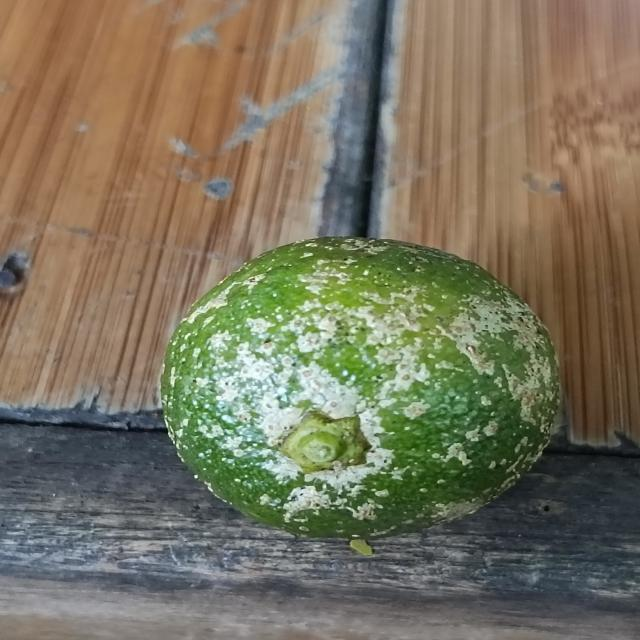scab: (148, 232, 574, 537)
